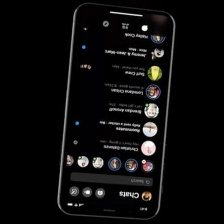phone: (53, 0, 179, 221)
